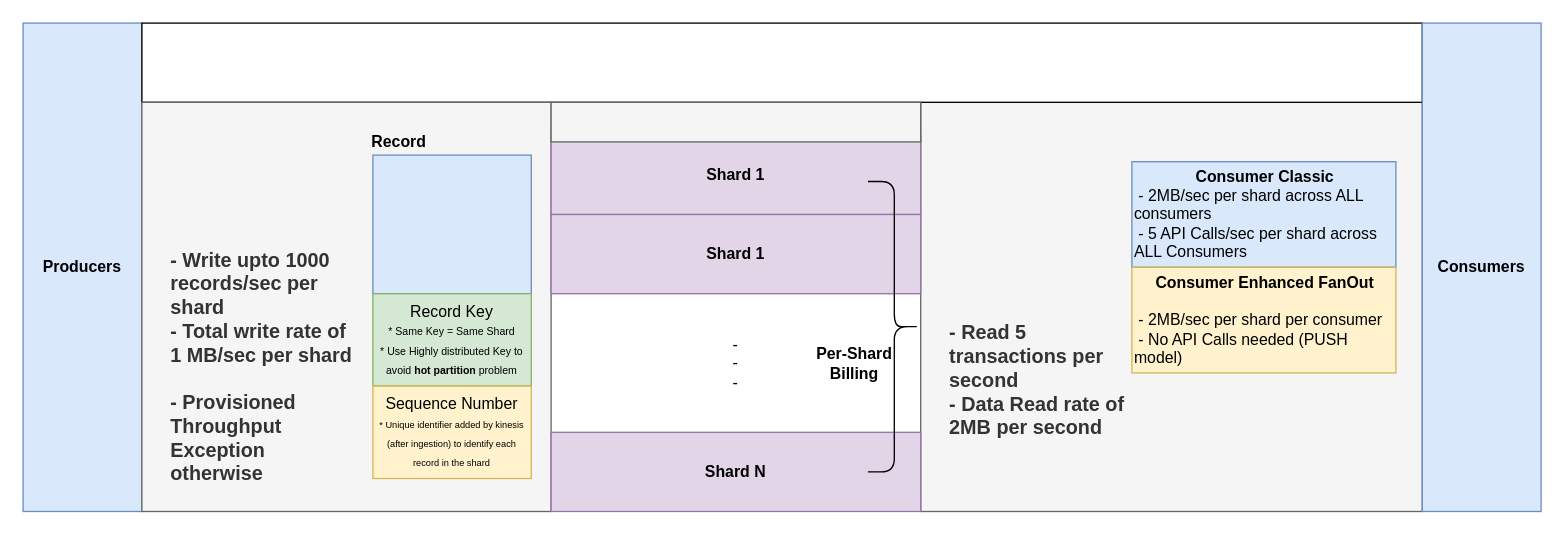
Some shapes in this 1564 by 535 pixel diagram are drawn without their labels. The shapes that lost their labels are listed below. From the top down, each one's centre as x and y in pixels, then its label:
At point (781, 62): "Kinesis Data Streams".
At point (735, 121): "Data Retention 24 hours by default, can be extended to 7 days".
At point (451, 224): "Data Blob (upto 1 MB) bytes".
